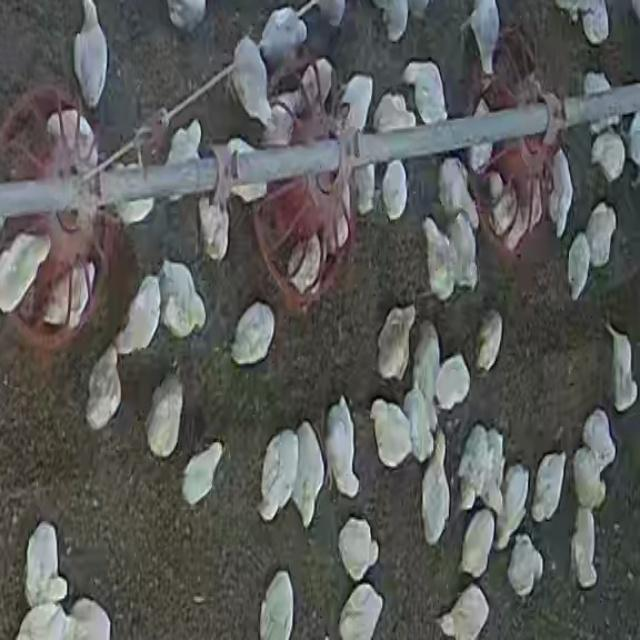chicken: (230, 36, 276, 132), (0, 230, 49, 313), (71, 0, 107, 105), (258, 430, 299, 521), (324, 398, 360, 500), (162, 119, 205, 202), (292, 422, 326, 524), (253, 83, 299, 158), (23, 521, 62, 609), (117, 277, 161, 355), (43, 261, 90, 334), (160, 260, 205, 336), (421, 434, 451, 543), (146, 371, 184, 457), (370, 399, 415, 470), (606, 318, 638, 414), (400, 61, 447, 126), (376, 304, 416, 380), (284, 219, 324, 295), (116, 157, 160, 226), (460, 0, 501, 74), (220, 137, 263, 207), (230, 302, 276, 367), (87, 346, 121, 432), (438, 583, 491, 638), (422, 217, 457, 300), (46, 110, 96, 168), (337, 515, 379, 584), (458, 426, 493, 508), (182, 441, 225, 507), (336, 582, 384, 639), (258, 6, 305, 64), (530, 452, 566, 524), (470, 95, 502, 176), (412, 324, 440, 416), (447, 212, 479, 292), (458, 509, 495, 578), (259, 571, 295, 640), (498, 466, 530, 540), (298, 48, 333, 115), (335, 74, 374, 134), (437, 156, 471, 224), (198, 191, 230, 262), (404, 389, 434, 463), (570, 510, 598, 589), (433, 354, 471, 412), (572, 448, 607, 510), (584, 202, 617, 267), (488, 179, 521, 243), (482, 426, 506, 514), (507, 536, 542, 596), (350, 141, 379, 212), (381, 153, 409, 222), (550, 152, 573, 235), (65, 598, 113, 637), (582, 72, 614, 130), (584, 409, 616, 467), (475, 310, 504, 374), (372, 93, 416, 135), (591, 131, 627, 182), (566, 232, 591, 300), (381, 1, 408, 40)
